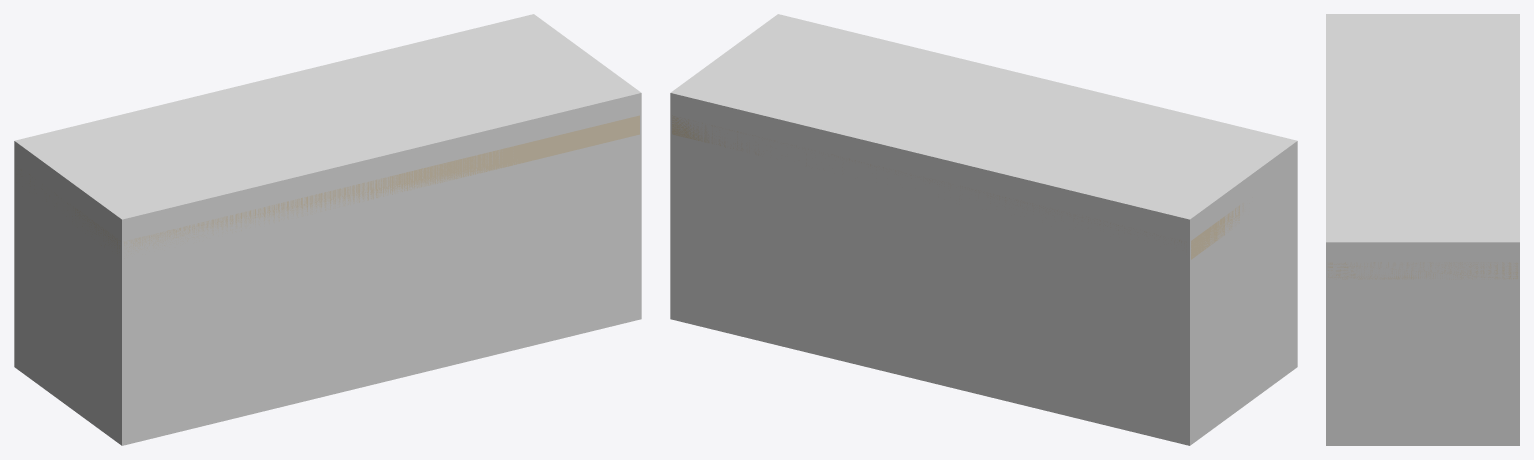
The model's file is checkout-counter_basic.glb.
3 views of the same model, side by side, from view 1: azimuth 30°, elevation 25°; view 2: azimuth 150°, elevation 25°; view 3: azimuth 270°, elevation 25° (orthographic). The views are drawn at different scales.
Visible parts, largest first — view 1: COL_checkout-counter, MESH_Worktop; view 2: COL_checkout-counter, MESH_Worktop; view 3: COL_checkout-counter, MESH_Worktop.
Boxes of the visible parts, x1,y1,x2,y2 form: COL_checkout-counter: [14, 14, 641, 445]; MESH_Worktop: [16, 115, 639, 258]; COL_checkout-counter: [670, 14, 1297, 445]; MESH_Worktop: [672, 115, 1252, 259]; COL_checkout-counter: [1326, 14, 1519, 445]; MESH_Worktop: [1328, 262, 1517, 279].
Bounding box in the file's own units: 2.45 × 1.02 × 0.88.
